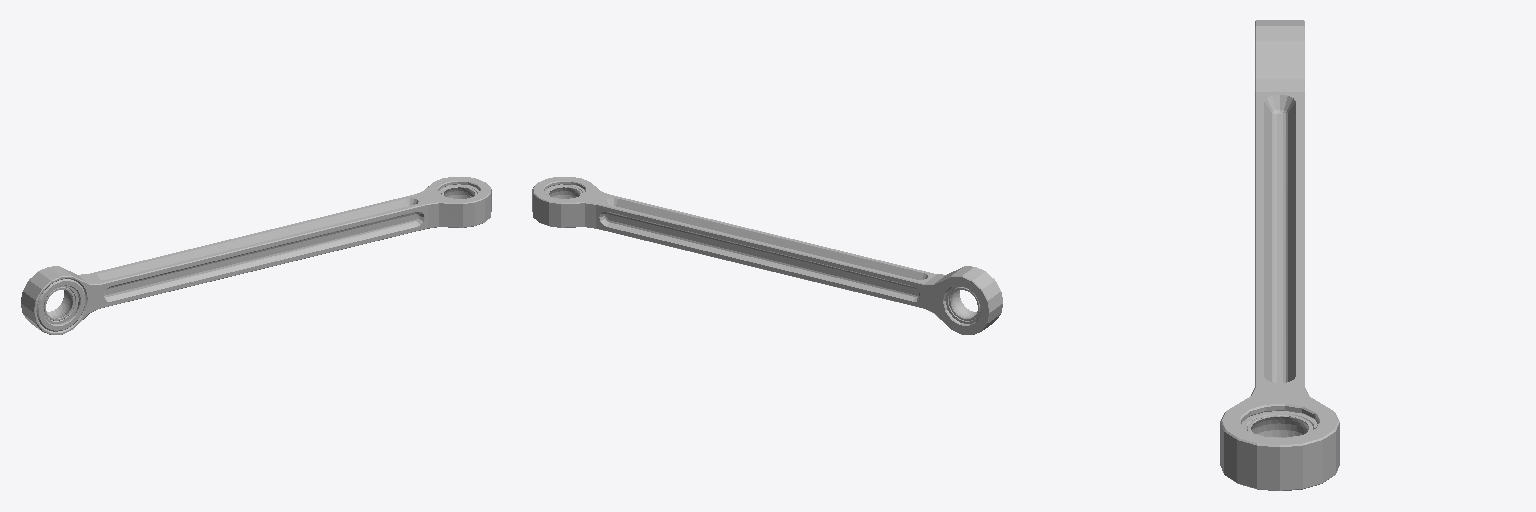
robot.urdf — short linkage:
<?xml version="1.0" encoding="utf-8"?>
<!-- This URDF was automatically created by SolidWorks to URDF Exporter! Originally created by Stephen Brawner (brawner@gmail.com) 
     Commit Version: 1.6.0-4-g7f85cfe  Build Version: 1.6.7995.38578
     For more information, please see http://wiki.ros.org/sw_urdf_exporter -->
<robot
  name="short linkage">
  <link
    name="short_linkage">
    <inertial>
      <origin
        xyz="-0.0835930721919286 6.06459077329136E-06 -0.00481486414450784"
        rpy="0 0 0" />
      <mass
        value="0.11572141963369" />
      <inertia
        ixx="3.23880110553235E-06"
        ixy="5.80517308389735E-07"
        ixz="-5.80226043150348E-07"
        iyy="0.000300934774084005"
        iyz="4.69786856045314E-10"
        izz="0.000300908689092935" />
    </inertial>
    <visual>
      <origin
        xyz="0 0 0"
        rpy="0 0 0" />
      <geometry>
        <mesh
          filename="package://short linkage/meshes/short_linkage.STL" />
      </geometry>
      <material
        name="">
        <color
          rgba="0.752941176470588 0.752941176470588 0.752941176470588 1" />
      </material>
    </visual>
    <collision>
      <origin
        xyz="0 0 0"
        rpy="0 0 0" />
      <geometry>
        <mesh
          filename="package://short linkage/meshes/short_linkage.STL" />
      </geometry>
    </collision>
  </link>
</robot>

--- Render facts (derived) ---
The picture shows the robot from 3 angles, left to right: view 1: azimuth 30°, elevation 25°; view 2: azimuth 150°, elevation 25°; view 3: azimuth 270°, elevation 25°; orthographic projection.
Robot: short linkage — 1 links, 0 joints (none); root link short_linkage; default pose: all joints at 0.
Links seen in each view (by area): view 1: short_linkage; view 2: short_linkage; view 3: short_linkage.
Link boxes in pixels (x1,y1,x2,y2): short_linkage: [21, 177, 491, 334]; short_linkage: [532, 177, 1002, 334]; short_linkage: [1220, 20, 1339, 490].
Bounding box of the posed robot: 0.188 × 0.023 × 0.023 m (x, y, z).
Meshes: 1 distinct files referenced, 1 mesh visuals loaded (1 binary STL).
